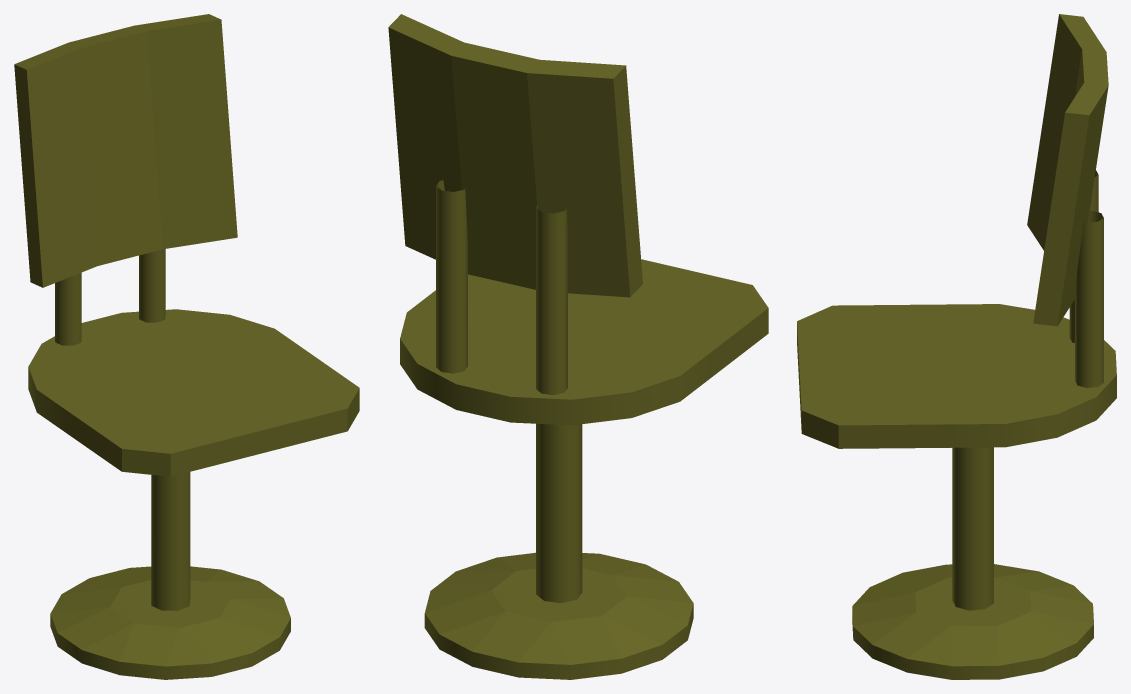
The model's file is blockout_Deskchair.fbx.
The picture shows the model from 3 angles, left to right: view 1: azimuth 30°, elevation 25°; view 2: azimuth 150°, elevation 25°; view 3: azimuth 270°, elevation 25°; orthographic projection. The views are drawn at different scales.
Parts seen in each view (by area): view 1: blockout_Deskchair; view 2: blockout_Deskchair; view 3: blockout_Deskchair.
Part boxes in pixels (x1,y1,x2,y2): blockout_Deskchair: [14, 14, 359, 679]; blockout_Deskchair: [388, 14, 768, 679]; blockout_Deskchair: [797, 14, 1116, 679].
Bounding box in the file's own units: 31.33 × 67.86 × 34.86.
Materials: 1 (1 with a texture image).
